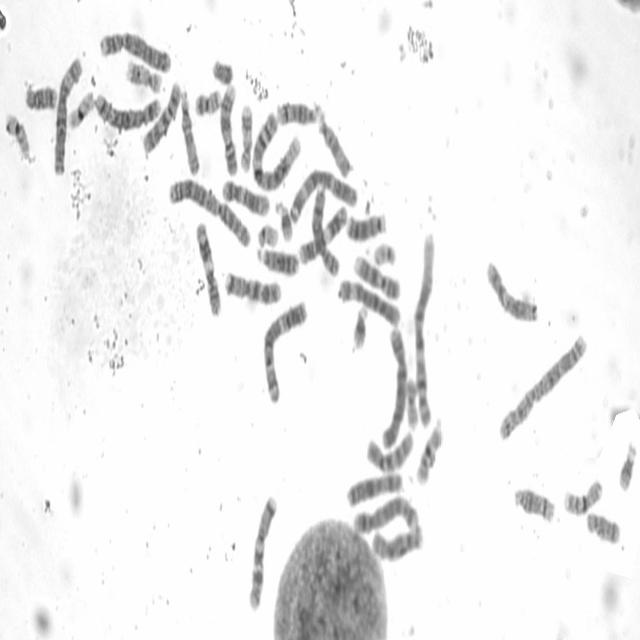A1: (412, 225, 436, 429), (250, 107, 302, 193)
A2: (496, 328, 588, 442), (166, 174, 252, 252)
A3: (260, 296, 309, 406), (286, 164, 358, 224)
B4: (379, 322, 408, 452), (99, 26, 172, 74)
B5: (352, 492, 421, 538), (92, 87, 162, 131)
C10: (141, 77, 183, 156), (363, 426, 414, 476)
C11: (297, 202, 348, 268), (193, 218, 222, 320)
C12: (483, 256, 539, 326), (220, 176, 270, 218)
C6: (51, 58, 83, 176), (335, 274, 402, 328)
C7: (246, 489, 278, 612), (222, 266, 282, 306)
C8: (310, 184, 341, 278), (369, 521, 423, 564)
C9: (351, 252, 401, 302), (218, 79, 238, 177)
D13: (253, 242, 300, 278), (345, 208, 387, 244)
D14: (511, 483, 556, 525), (274, 95, 321, 128)
D15: (316, 108, 352, 181), (179, 86, 201, 177)
E16: (414, 418, 444, 488), (561, 474, 603, 518)
E17: (124, 59, 164, 95), (238, 101, 254, 174)
E18: (584, 508, 622, 544), (23, 79, 58, 113)
F19: (3, 108, 30, 162), (65, 84, 95, 131)
F20: (192, 86, 222, 118), (404, 374, 419, 429)
G21: (616, 438, 637, 493), (274, 196, 294, 244), (350, 299, 368, 352)
G22: (254, 220, 280, 250), (371, 240, 397, 268)
X: (347, 467, 404, 509)
Y: (210, 56, 235, 86)
